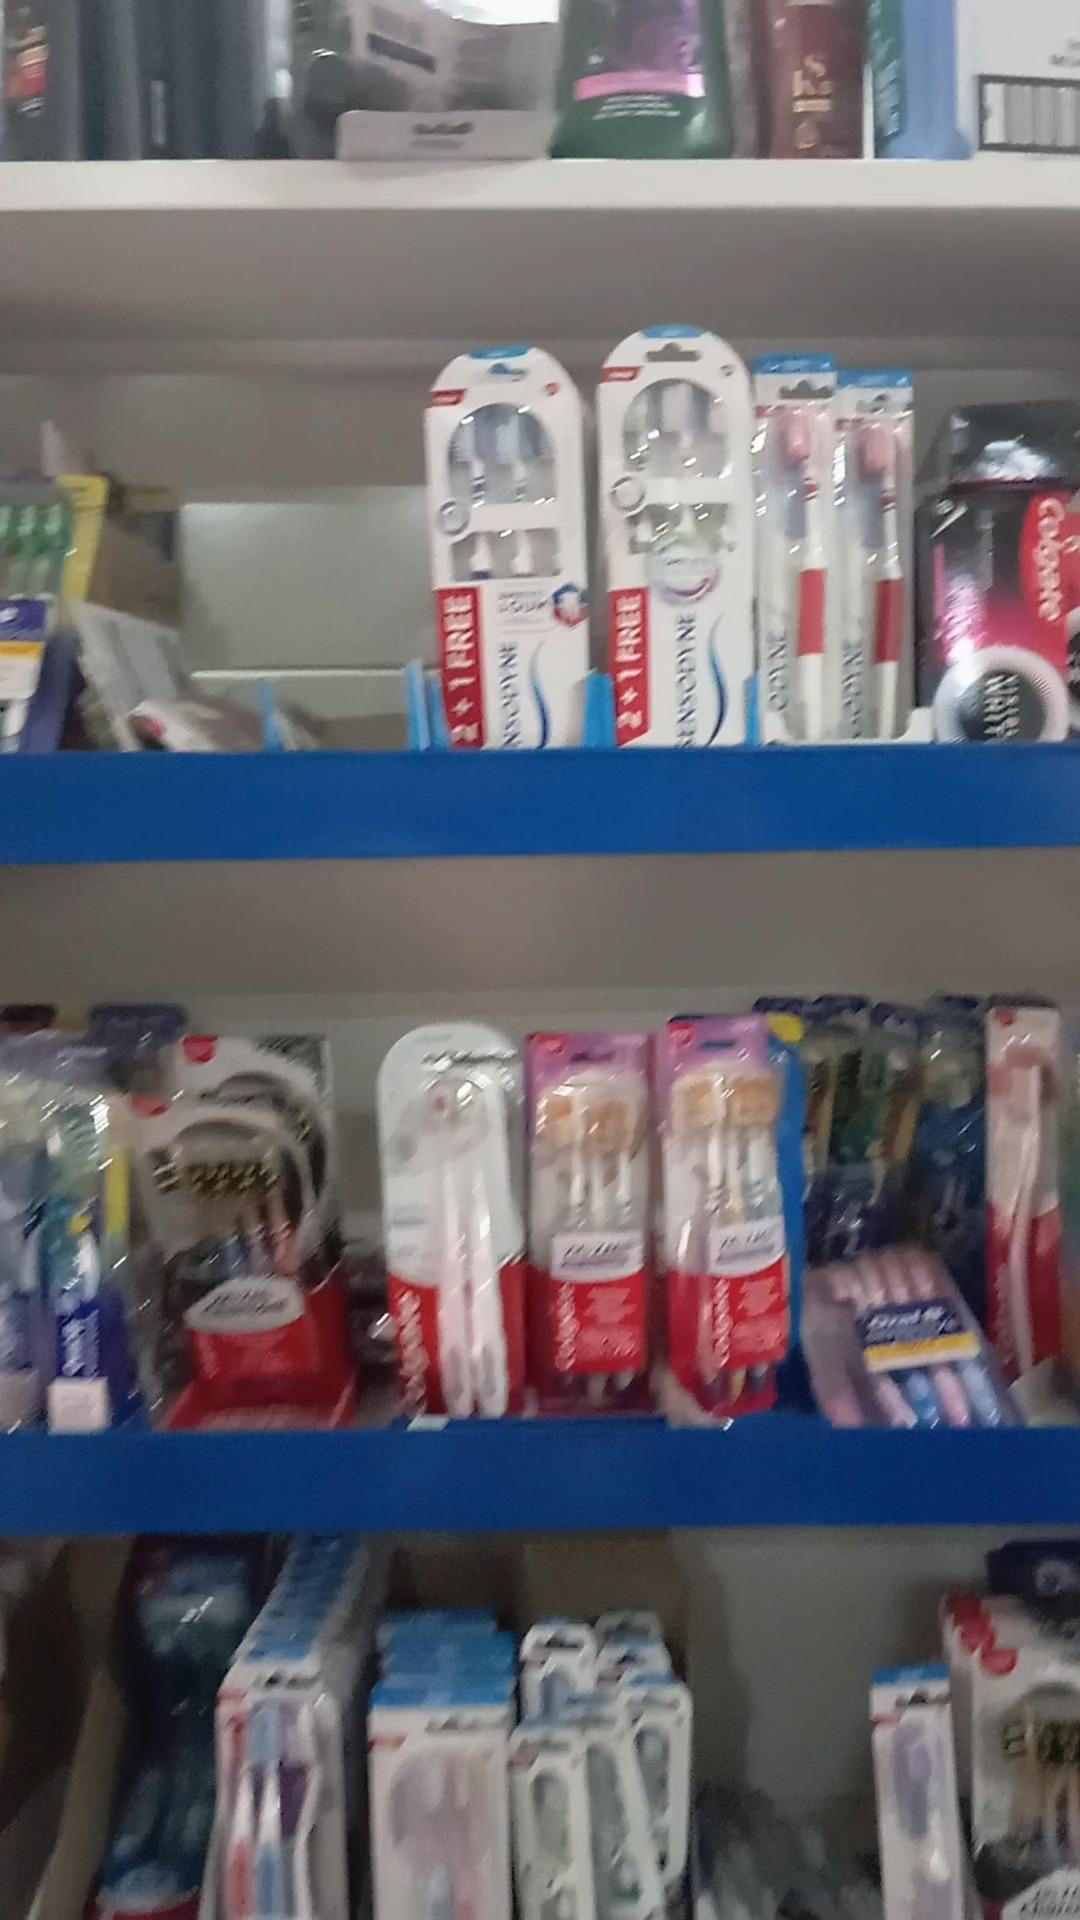10: (811, 1250, 1004, 1428)
16: (435, 347, 582, 748)
4: (601, 330, 757, 748)
9: (41, 1083, 121, 1432)
liquid soap: (145, 1104, 336, 1402)
